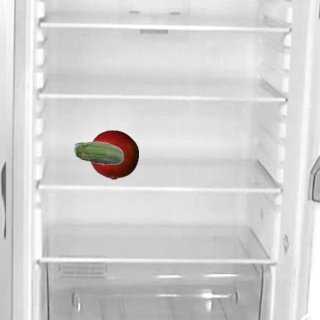Apple Braeburn: (88, 129, 138, 179)
Corn Husk: (73, 129, 123, 179)
